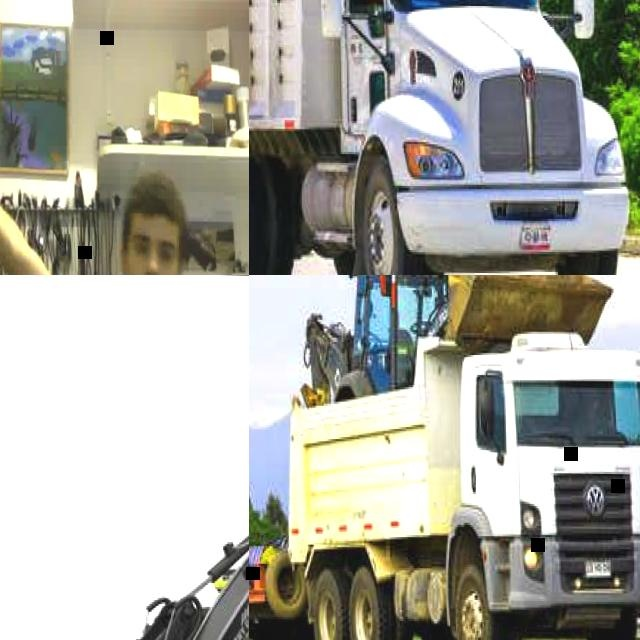NO-Hardhat: (130, 172, 185, 227)
Person: (0, 70, 249, 275)
machinery: (286, 318, 640, 640), (249, 0, 633, 275), (0, 386, 249, 640), (296, 275, 614, 409)
